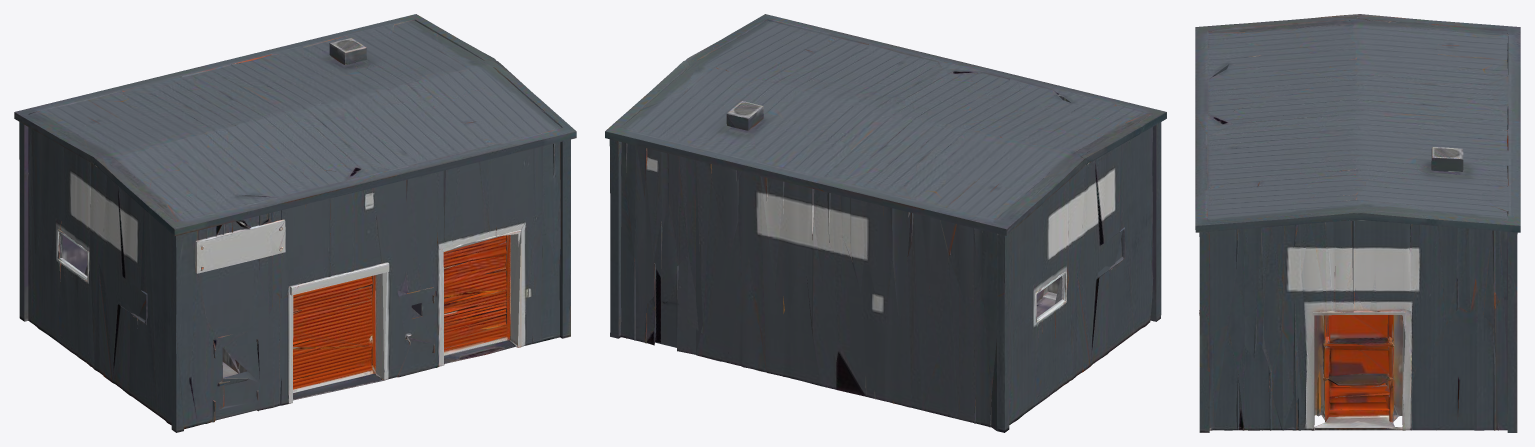
File: arch_repair_garage_01.glb
3 views of the same model, side by side, from view 1: azimuth 30°, elevation 25°; view 2: azimuth 150°, elevation 25°; view 3: azimuth 270°, elevation 25° (orthographic).
Bounding box in the file's own units: 11.09 × 6 × 7.67.
Materials: 1 (1 with a texture image).
